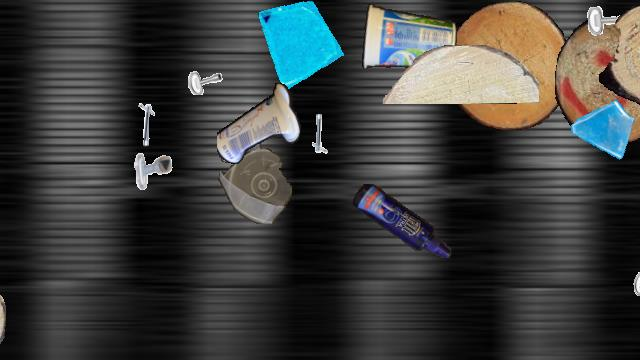glass: (257, 1, 349, 93), (569, 97, 637, 165)
metal: (581, 1, 640, 61), (125, 101, 179, 155), (176, 43, 228, 95), (289, 106, 339, 156), (132, 148, 174, 190), (627, 247, 640, 299)
plastic: (353, 184, 451, 258), (217, 81, 301, 167), (360, 1, 456, 71), (218, 135, 292, 223)
wood: (447, 1, 571, 129), (555, 20, 640, 142), (382, 45, 538, 103), (599, 1, 640, 109), (0, 275, 5, 359)
